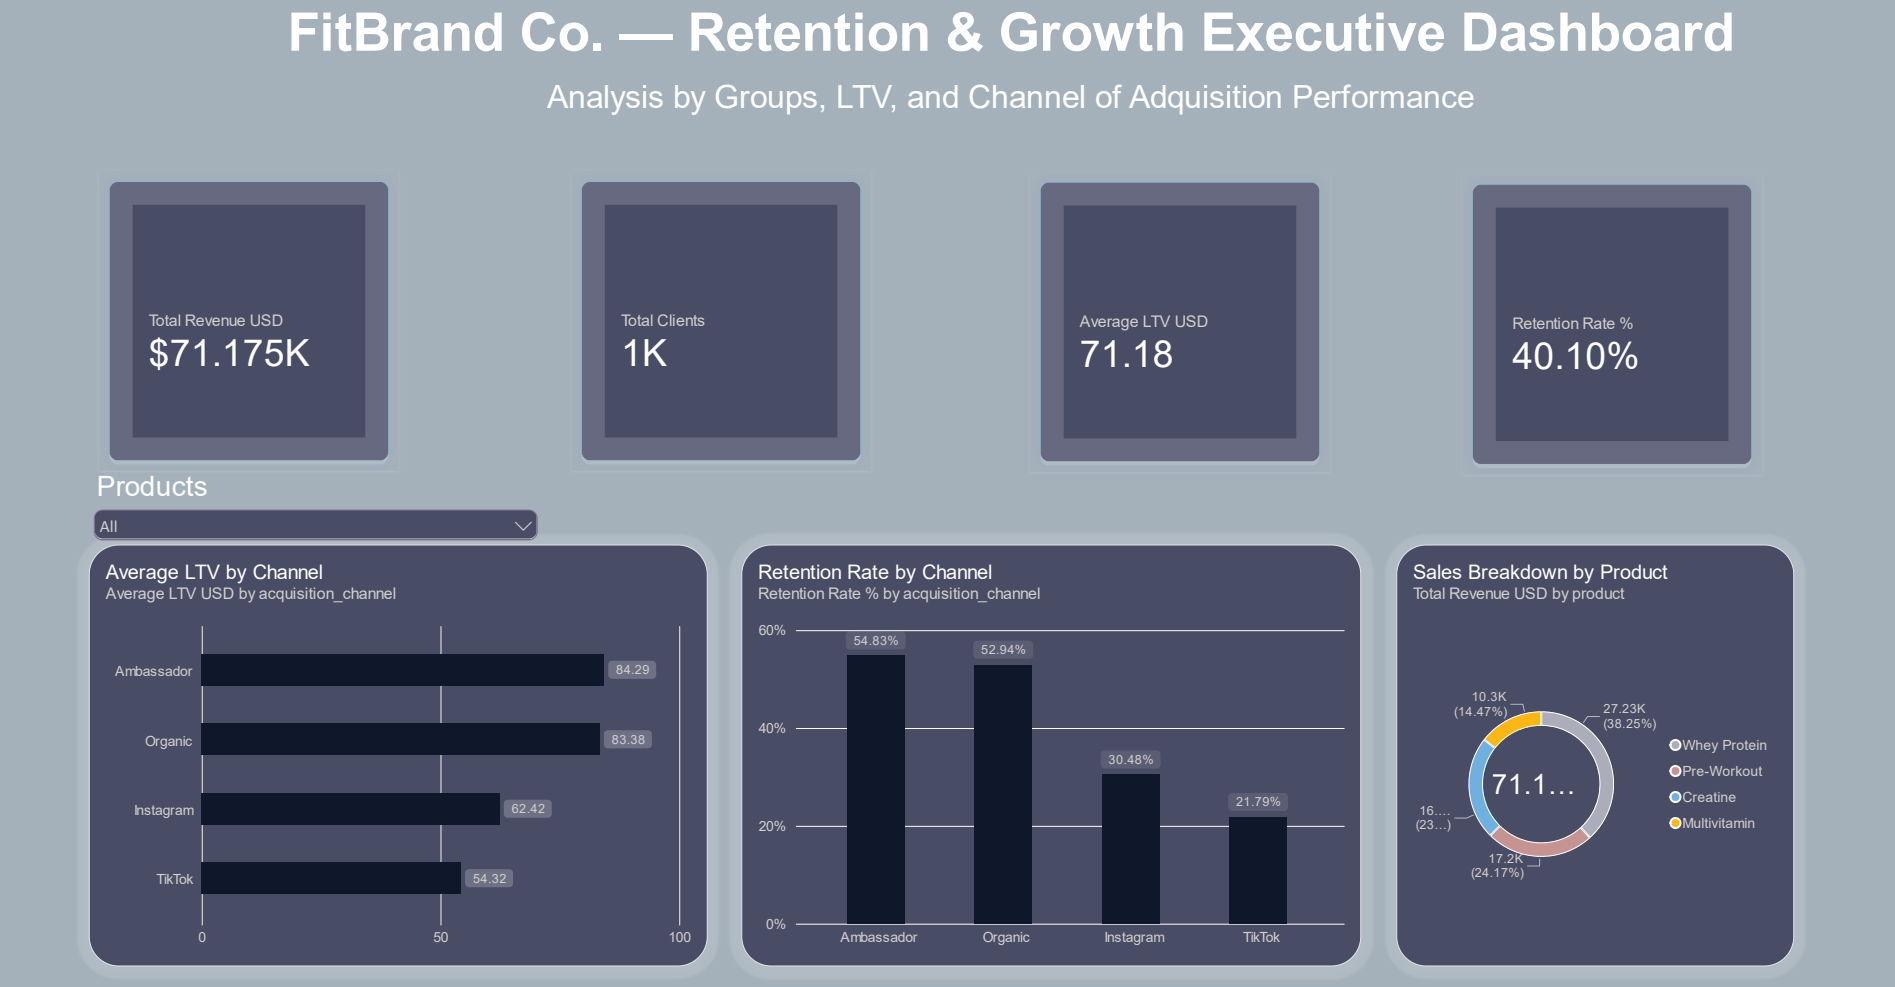

What the dashboard file says about the page in this screenshot:
{"tool":"powerbi","page":{"name":"Página 1","canvas":[1920,1080],"ordinal":0},"visuals":[{"type":"textbox","box":[280.8,19.2,1489.5,83.7],"z":0},{"type":"textbox","box":[490,81.2,1071.3,300.4],"z":1000},{"type":"cardVisual","fields":{"Data":["Medidas.Total Ventas USD"]},"box":[113.5,188.7,300,300],"z":2000},{"type":"cardVisual","fields":{"Data":["Medidas.LTV Promedio USD"]},"box":[1045.3,190.4,300,300],"z":3000},{"type":"cardVisual","fields":{"Data":["Medidas.Total Clientes"]},"box":[586.1,188.7,300,300],"z":4000},{"type":"cardVisual","fields":{"Data":["Medidas.Tasa Retencion %"]},"box":[1477.7,192,300,300],"z":5000},{"type":"clusteredColumnChart","title":"Retention Rate by Channel","fields":{"Category":["transactions.acquisition_channel"],"Y":["Medidas.Tasa Retencion %"]},"box":[756.4,562.7,620,422],"z":6000},{"type":"clusteredBarChart","title":"Average LTV by Channel","fields":{"Category":["transactions.acquisition_channel"],"Y":["Medidas.LTV Promedio USD"]},"box":[103.5,562.7,619.5,422.5],"z":7000},{"type":"donutChart","title":"Sales Breakdown by Product","fields":{"Category":["transactions.product"],"Y":["Medidas.Total Ventas USD"]},"box":[1411,562.7,398,422],"z":8000},{"type":"slicer","title":"Productos","fields":{"Values":["transactions.product"]},"box":[103.5,487.6,454,150],"z":9000}]}

Visuals, with their boxes on the page's 1920x1080 design canvas (x1, y1, x2, y2). These are canvas units, not pixel positions in the 1895x987 screenshot, which may show the page scaled, cropped or inside an application window:
textbox: x1=281 y1=19 x2=1770 y2=103
textbox: x1=490 y1=81 x2=1561 y2=382
cardVisual - Medidas.Total Ventas USD: x1=114 y1=189 x2=414 y2=489
cardVisual - Medidas.LTV Promedio USD: x1=1045 y1=190 x2=1345 y2=490
cardVisual - Medidas.Total Clientes: x1=586 y1=189 x2=886 y2=489
cardVisual - Medidas.Tasa Retencion %: x1=1478 y1=192 x2=1778 y2=492
"Retention Rate by Channel" clusteredColumnChart: x1=756 y1=563 x2=1376 y2=985
"Average LTV by Channel" clusteredBarChart: x1=104 y1=563 x2=723 y2=985
"Sales Breakdown by Product" donutChart: x1=1411 y1=563 x2=1809 y2=985
"Productos" slicer: x1=104 y1=488 x2=558 y2=638
